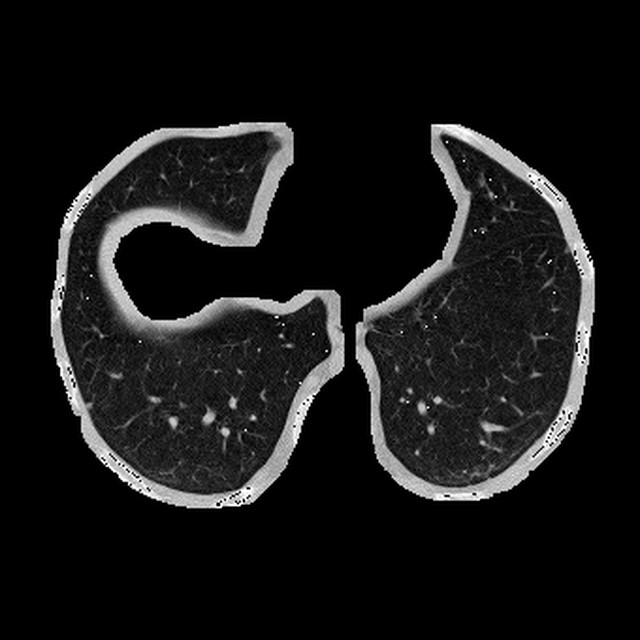PN: (85, 401, 92, 408)
